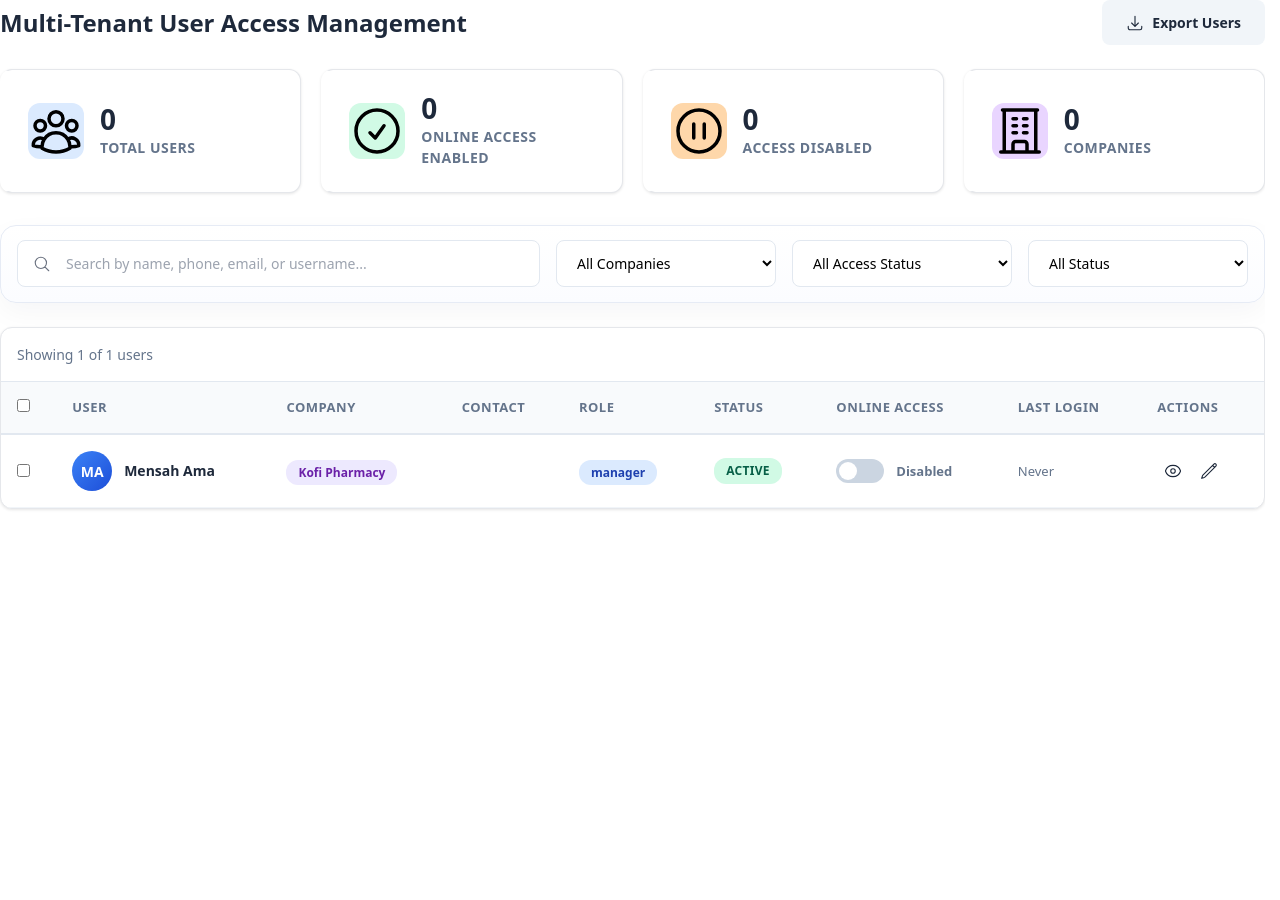
Test: platform admin: online access across pharmacies › shows the server’s message when an edit is refused
The width and height of the screenshot is (1280, 900).
Click the button titled "Edit User" at (1209, 471), box [1193,455,1225,487]
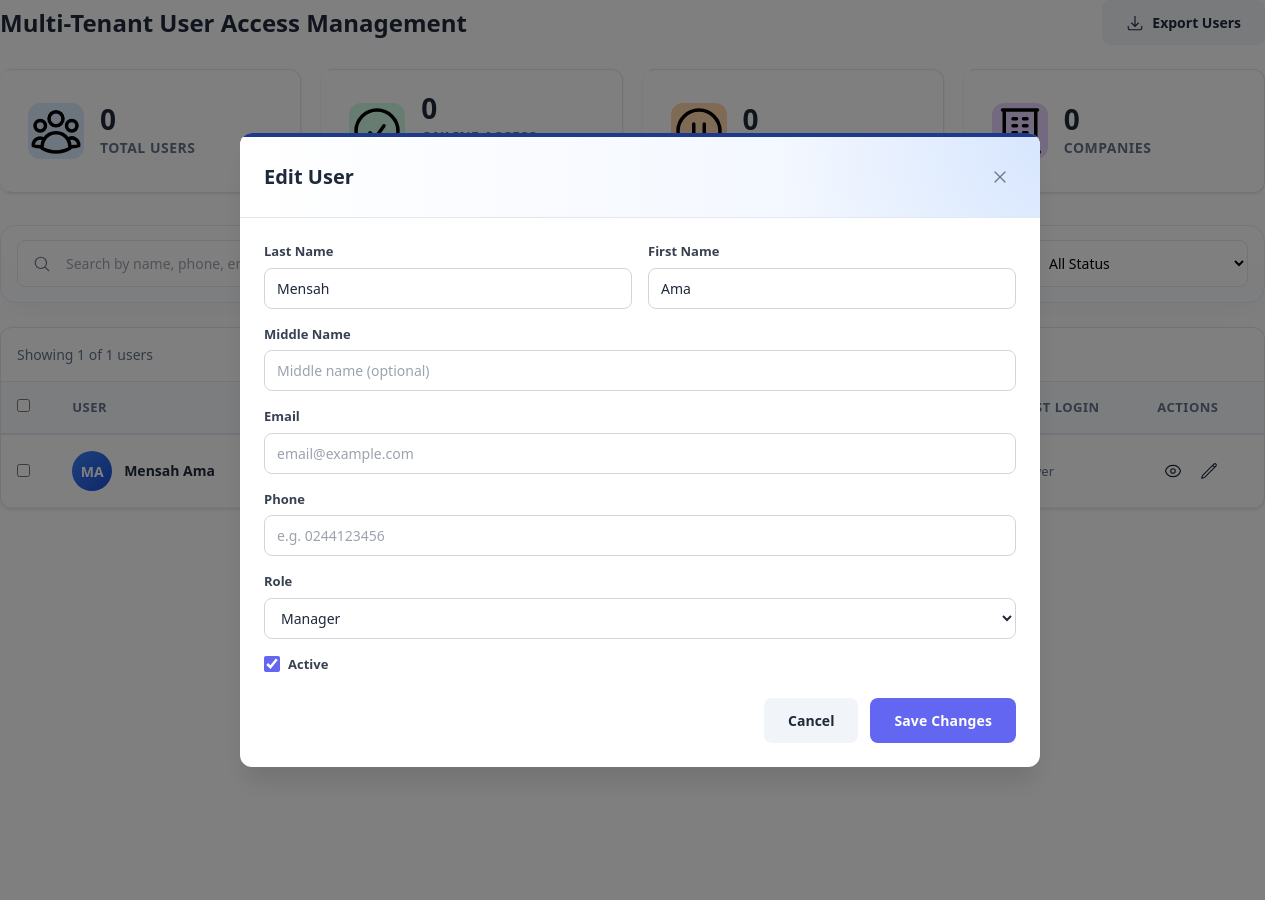
Submit the form, box [264,242,1016,743]
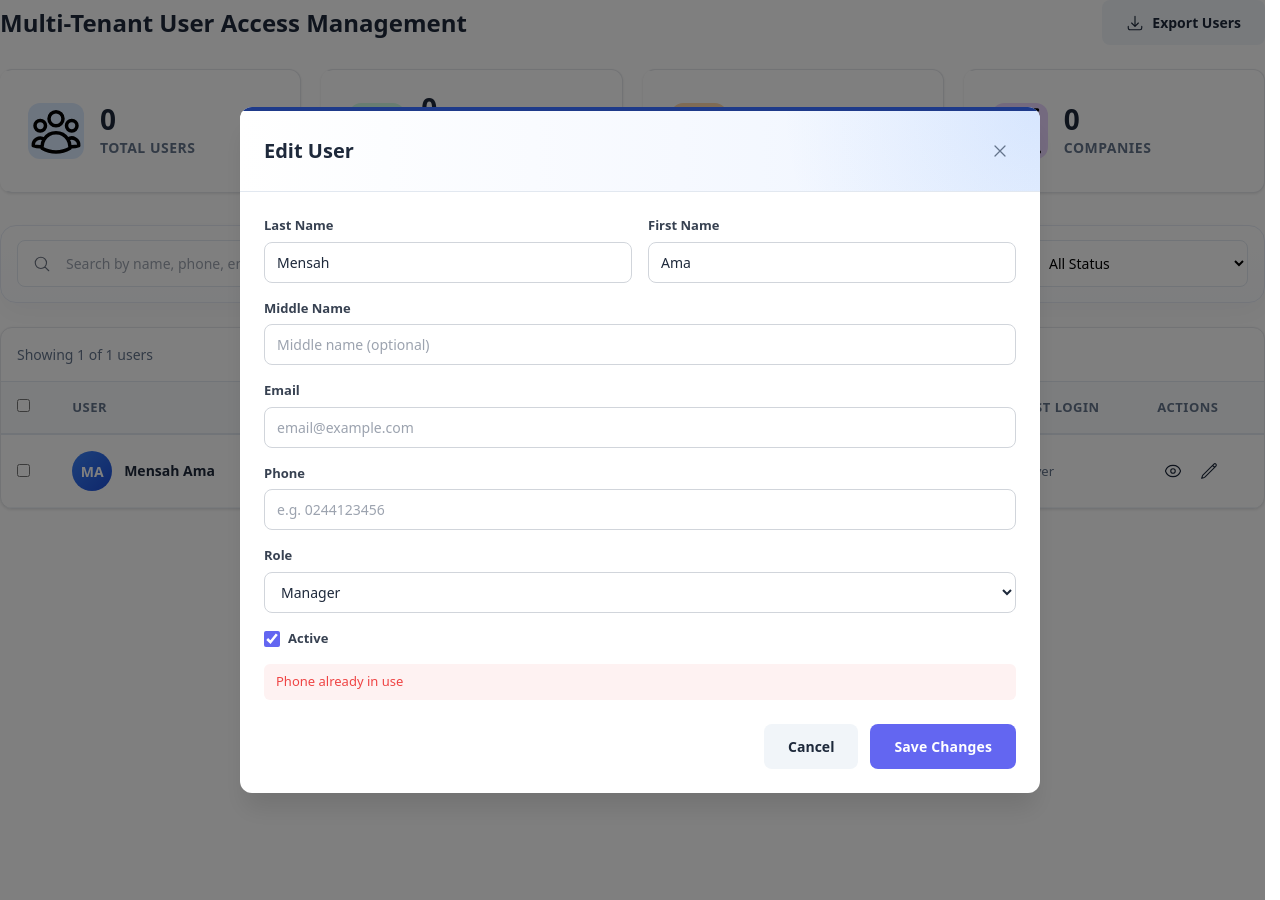
Now the text "Phone already in use" is shown, box [264,664,1016,700]
